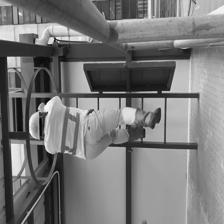Feet: (131, 96, 161, 129), (112, 126, 161, 141)
Hand: (39, 93, 54, 113)
Ladder: (12, 87, 199, 160)
